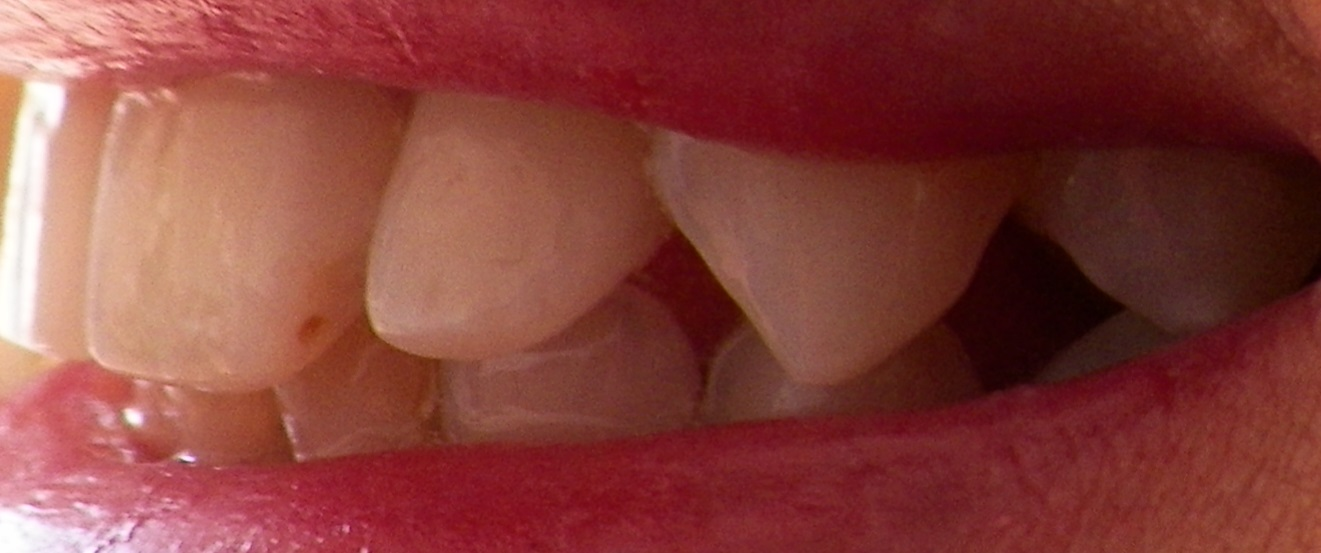boca: (7, 69, 1278, 439)
